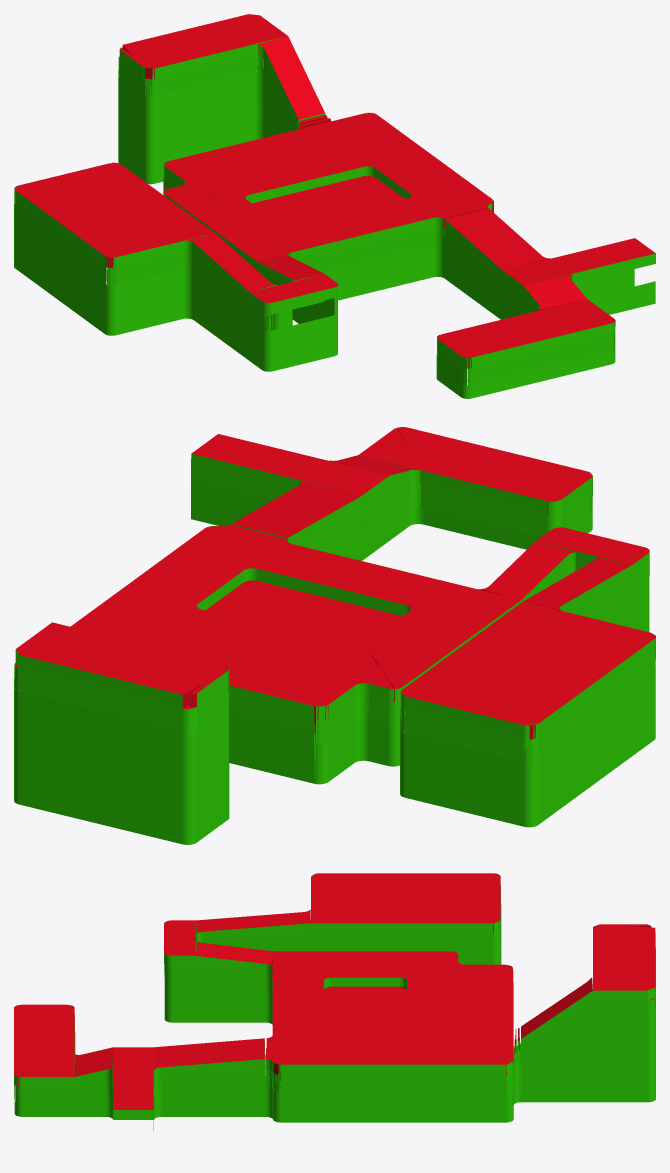
Rendered from CuevaB37.fbx.
3 views of the same model, one above another, from view 1: azimuth 30°, elevation 25°; view 2: azimuth 150°, elevation 25°; view 3: azimuth 270°, elevation 25° (orthographic). The views are drawn at different scales.
Visible parts, largest first — view 1: Cube.004; view 2: Cube.004; view 3: Cube.004.
Boxes of the visible parts, left/top/right/bottom form: Cube.004: left=14, top=14, right=655, bottom=398; Cube.004: left=14, top=427, right=655, bottom=844; Cube.004: left=14, top=873, right=655, bottom=1130.
Size of the model in its own units: 8.48 by 10.97 by 2.11.
